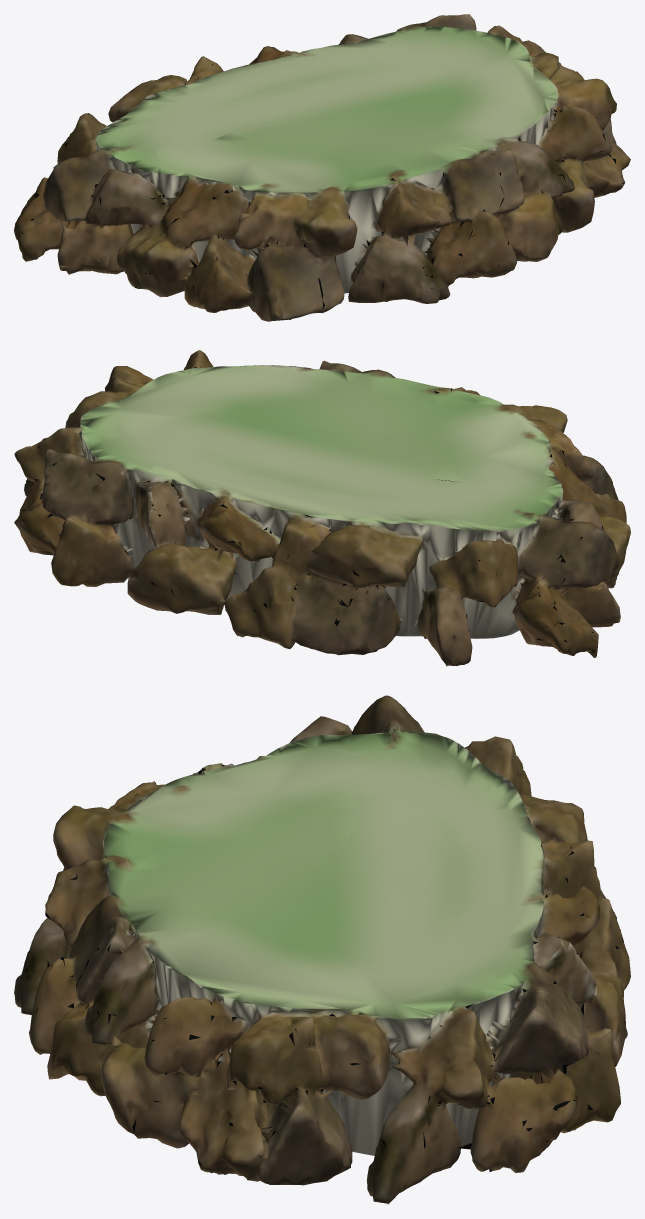
File: continuous_island_v8_1.glb
3 renders of one model, top to bottom at view 1: azimuth 30°, elevation 25°; view 2: azimuth 150°, elevation 25°; view 3: azimuth 270°, elevation 25°, orthographic. The views are drawn at different scales.
Visible parts, largest first — view 1: Continuous_manifold_weathered_island_2; view 2: Continuous_manifold_weathered_island_2; view 3: Continuous_manifold_weathered_island_2.
Boxes of the visible parts, bbox=[...] form: Continuous_manifold_weathered_island_2: bbox=[14, 14, 630, 321]; Continuous_manifold_weathered_island_2: bbox=[14, 350, 630, 666]; Continuous_manifold_weathered_island_2: bbox=[14, 695, 630, 1204].
Bounding box in the file's own units: 35.6 × 6.88 × 24.32.
1 material, 1 textured.
